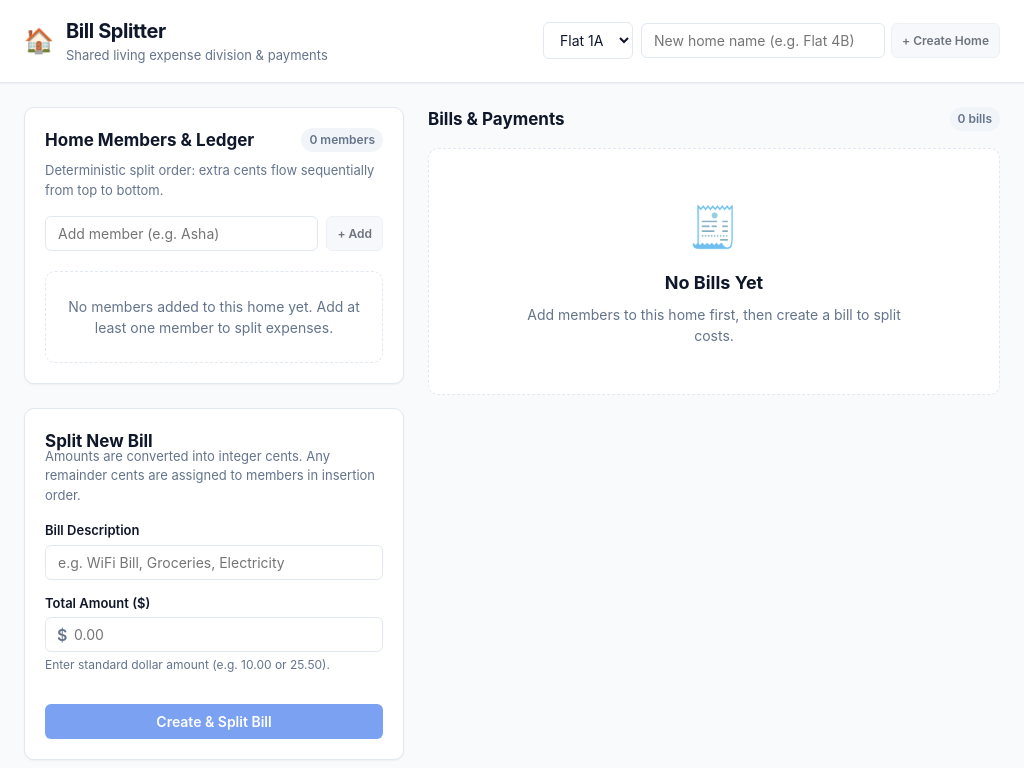
Test: Dashboard Component - Genuine React DOM Interactions › 4. Adds a member using the member form and updates ledger
Check: the text "No members added to this home yet" is shown, box top-left (68, 298), bottom-right (360, 336)
Type "Asha" into the field with placeholder "Add member (e.g. Asha)" at (182, 234), box top-left (45, 216), bottom-right (318, 251)
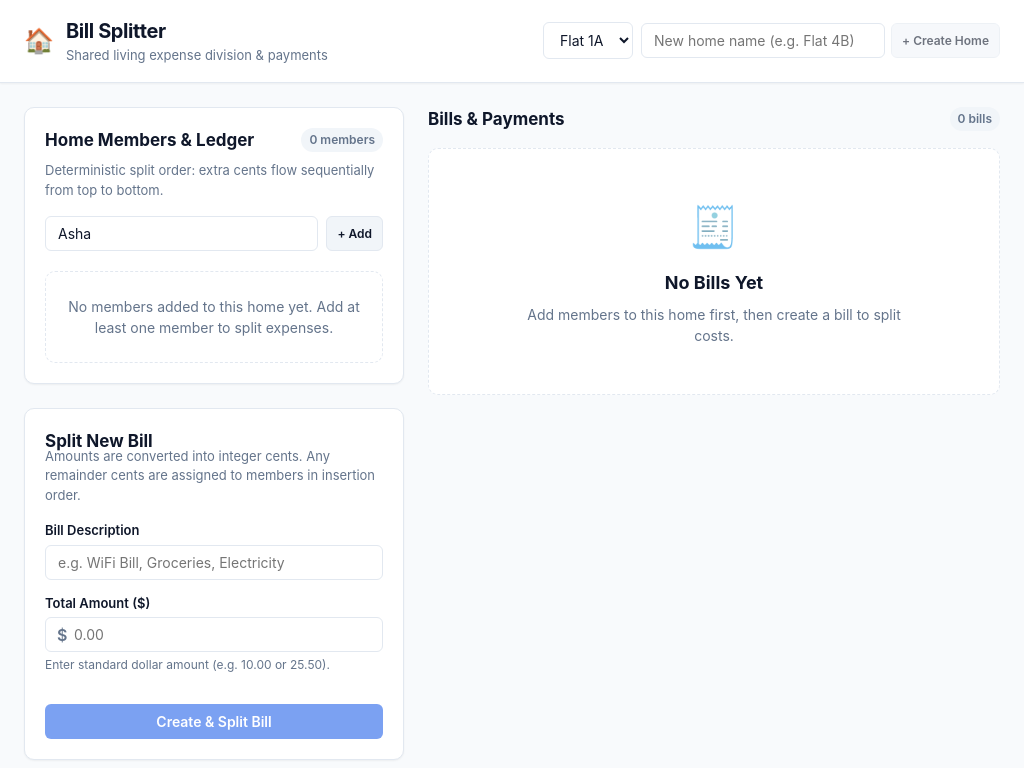
Click the button "+ Add" at (355, 234), box top-left (326, 216), bottom-right (383, 251)
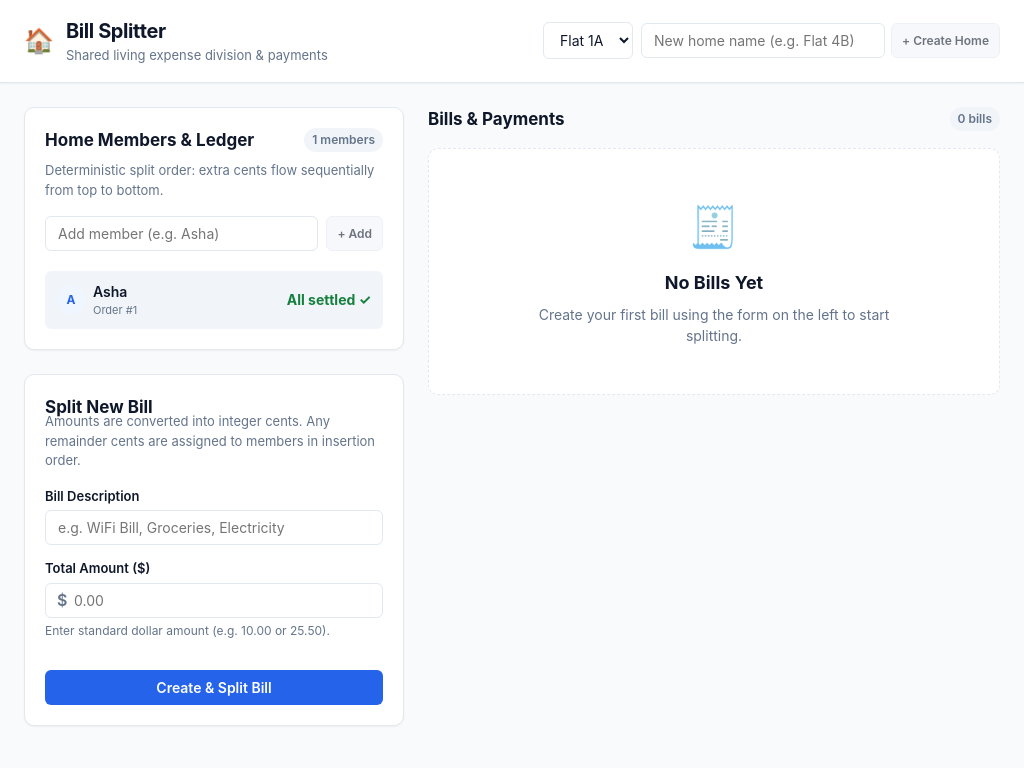
Check: the text "Asha" is shown, box top-left (93, 283), bottom-right (127, 300)
Check: the text "All settled ✓" is shown, box top-left (287, 289), bottom-right (371, 310)
